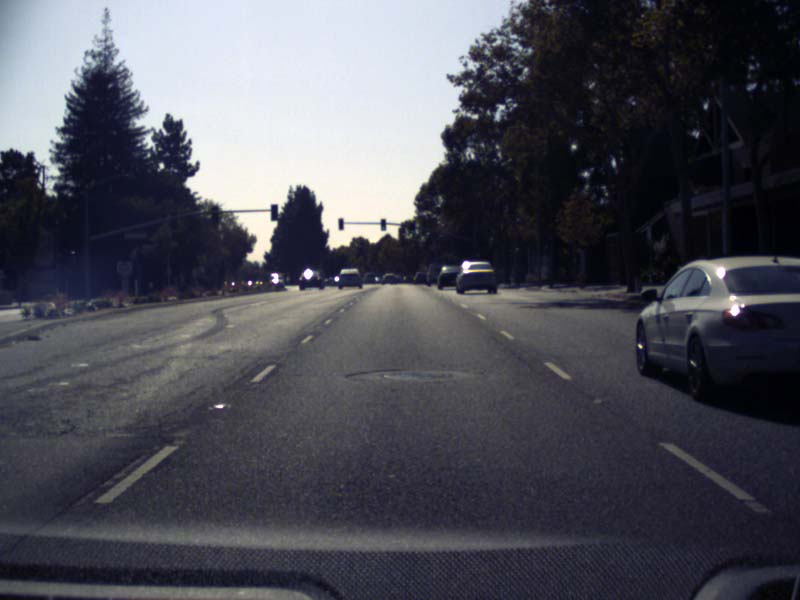Green: (381, 218, 385, 231), (409, 223, 413, 234)
